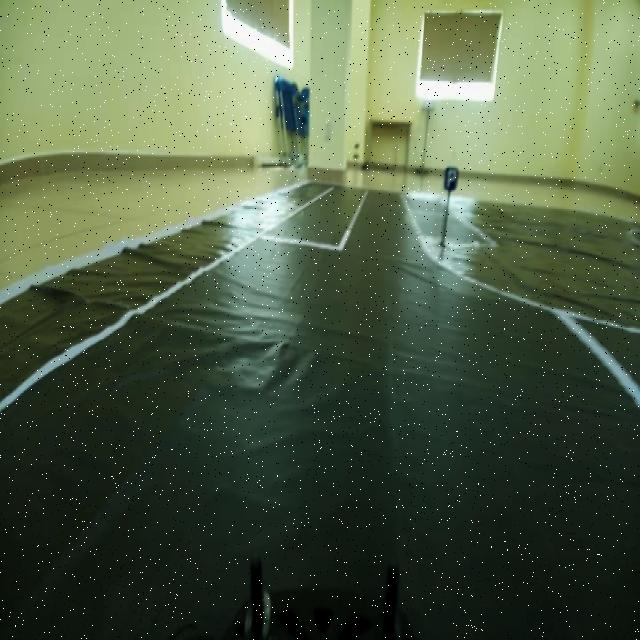parking: (441, 158, 458, 194)
